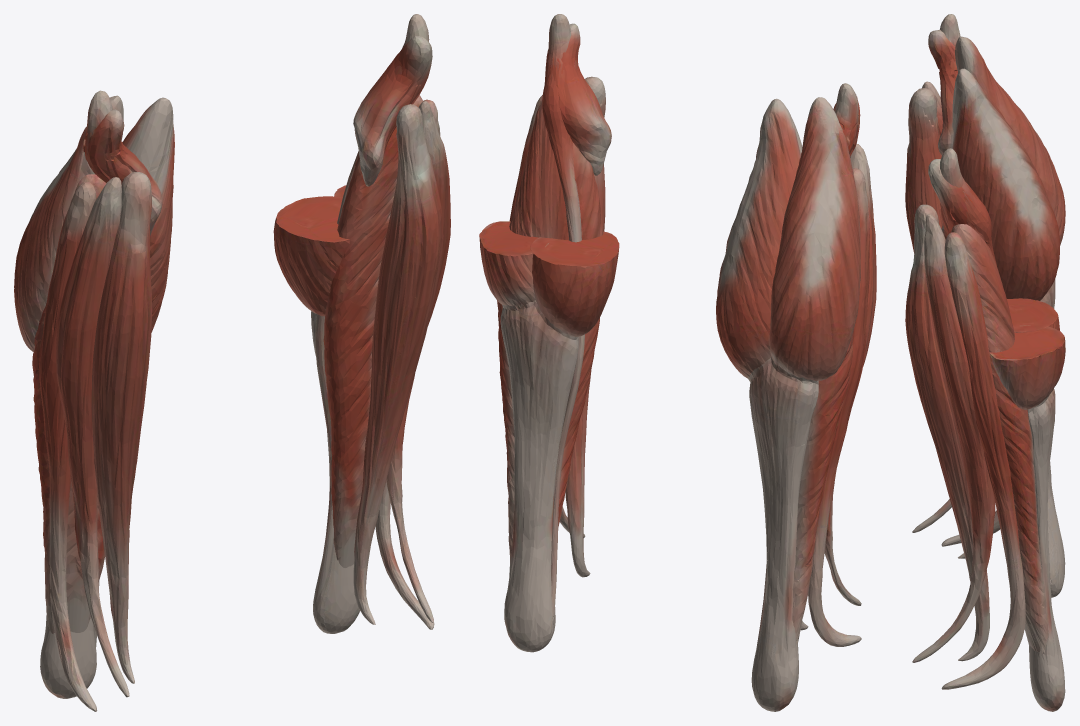
The model's file is SubTool-5-16650342.OBJ.
3 renders of one model, left to right at view 1: azimuth 30°, elevation 25°; view 2: azimuth 150°, elevation 25°; view 3: azimuth 270°, elevation 25°, orthographic. The views are drawn at different scales.
Visible parts, largest first — view 1: Group34404; view 2: Group34404; view 3: Group34404.
Boxes of the visible parts, x1,y1,x2,y2 form: Group34404: (14, 14, 450, 711); Group34404: (479, 14, 876, 711); Group34404: (905, 14, 1065, 711).
Size of the model in its own units: 13.22 by 20.37 by 5.19.
